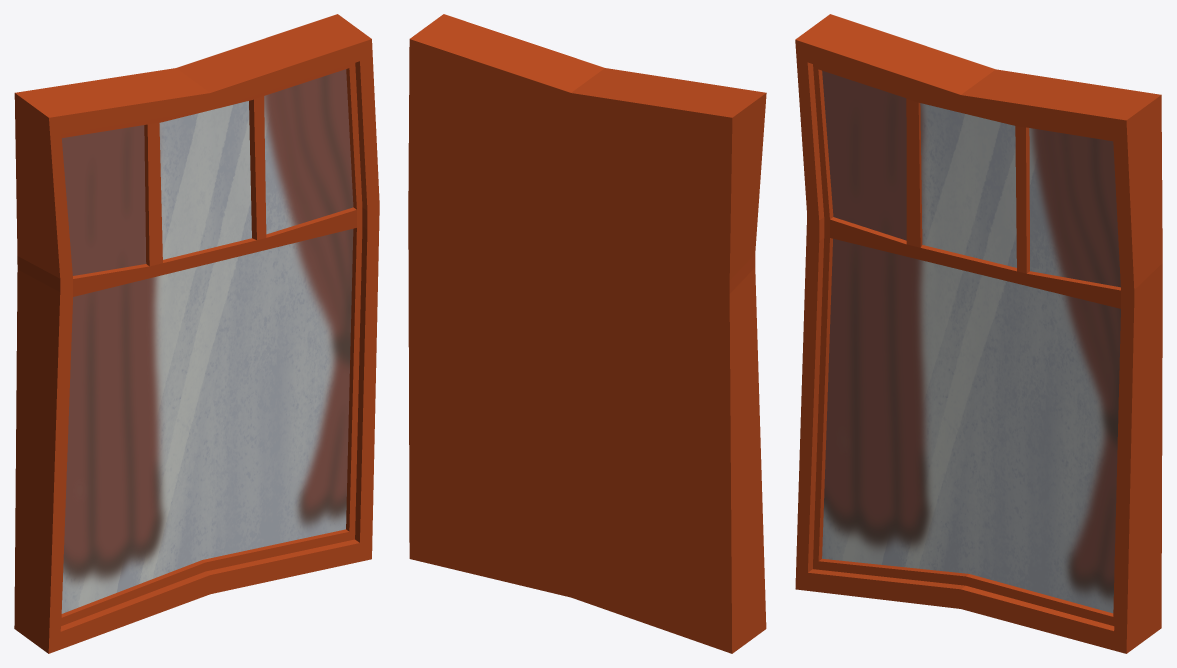
File: Window16.fbx
3 renders of one model, left to right at view 1: azimuth 30°, elevation 25°; view 2: azimuth 150°, elevation 25°; view 3: azimuth 330°, elevation 25°, orthographic. The views are drawn at different scales.
Visible parts, largest first — view 1: Cube.091; view 2: Cube.091; view 3: Cube.091.
Boxes of the visible parts, bbox=[...] form: Cube.091: bbox=[14, 14, 379, 653]; Cube.091: bbox=[408, 14, 766, 653]; Cube.091: bbox=[795, 14, 1162, 653].
Size of the model in its own units: 133 by 206 by 24.
